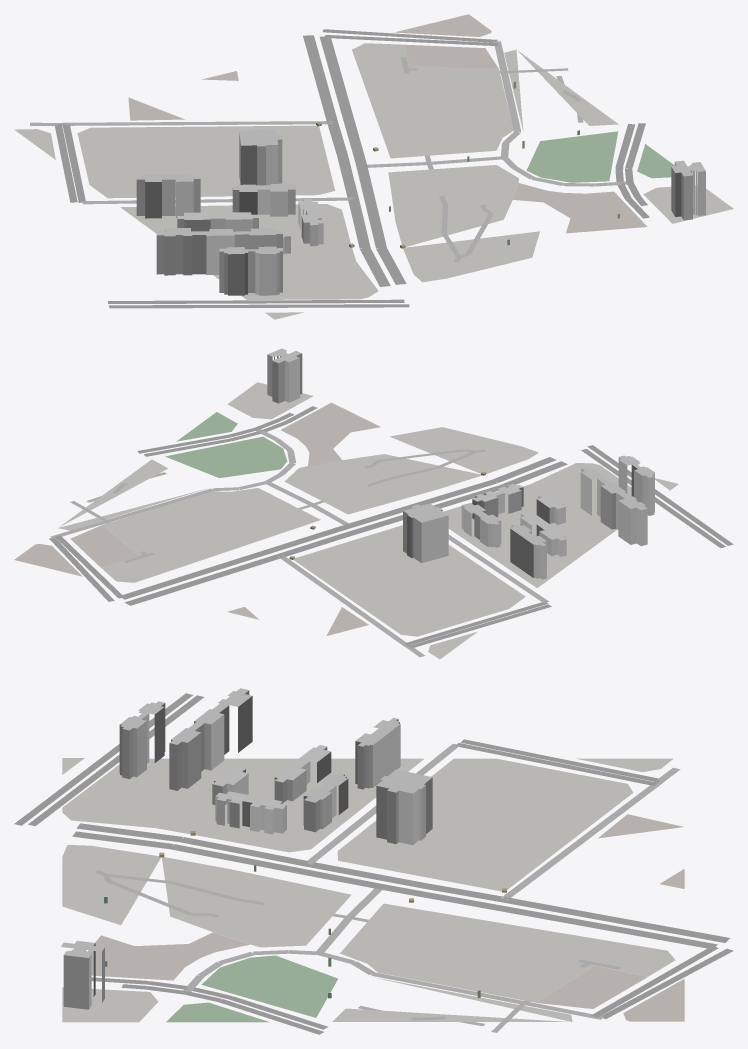
3 renders of one model, top to bottom at view 1: azimuth 30°, elevation 25°; view 2: azimuth 150°, elevation 25°; view 3: azimuth 270°, elevation 25°, orthographic. The views are drawn at different scales.
Bounding box in the file's own units: 646 × 46.42 × 578.
